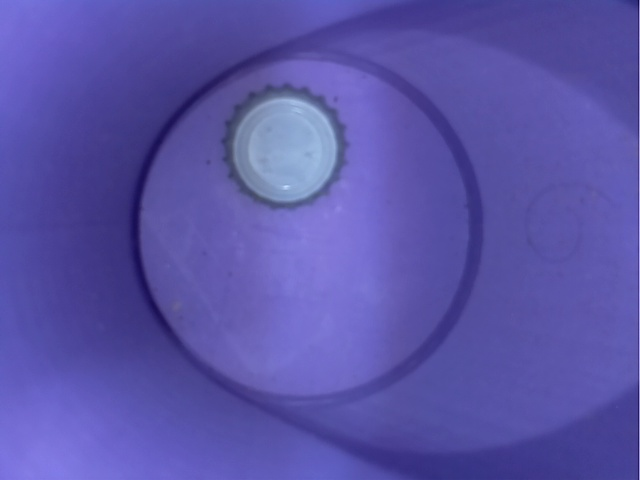capsule: (214, 72, 355, 216)
